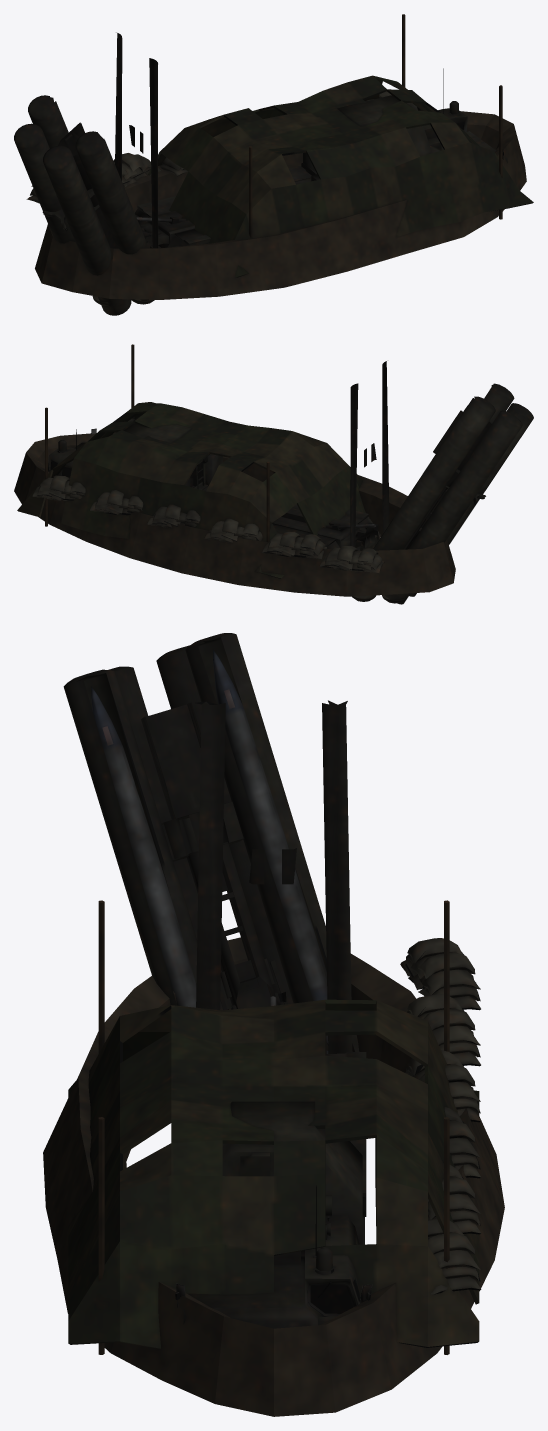
Rendered from hsam-wreck.glb.
3 renders of one model, top to bottom at view 1: azimuth 30°, elevation 25°; view 2: azimuth 150°, elevation 25°; view 3: azimuth 270°, elevation 25°, orthographic. The views are drawn at different scales.
Visible parts, largest first — view 1: hull; view 2: hull; view 3: hull.
Boxes of the visible parts, x1,y1,x2,y2 form: hull: [14, 14, 533, 315]; hull: [14, 344, 533, 604]; hull: [43, 633, 504, 1416].
Bounding box in the file's own units: 17.04 × 7.62 × 7.19.
1 material, 1 textured.
